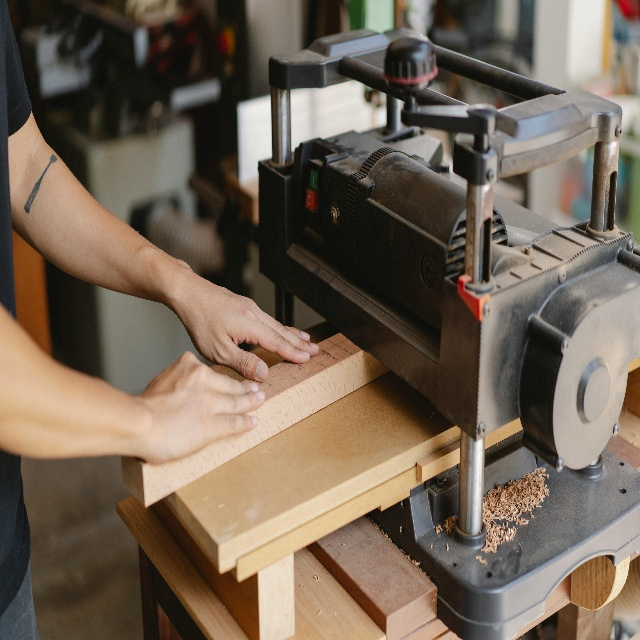Sin_guantes: (175, 267, 320, 385), (134, 347, 265, 463)
